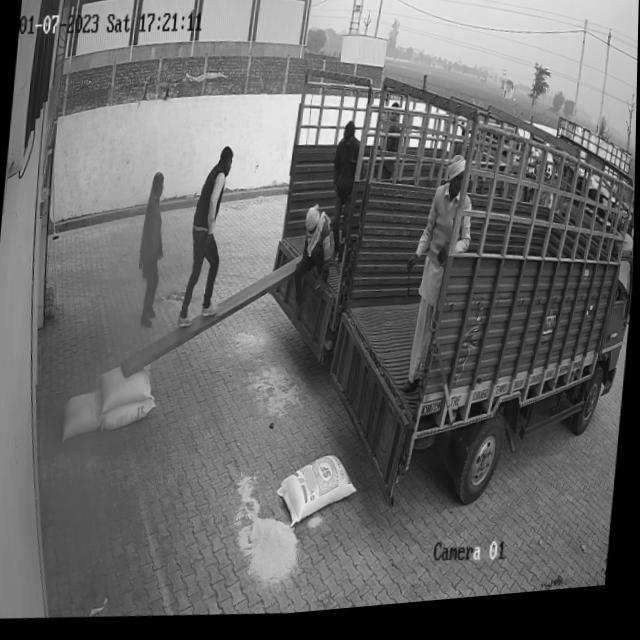sack: (275, 454, 361, 536), (95, 363, 154, 420), (62, 389, 107, 443), (102, 395, 158, 437)
